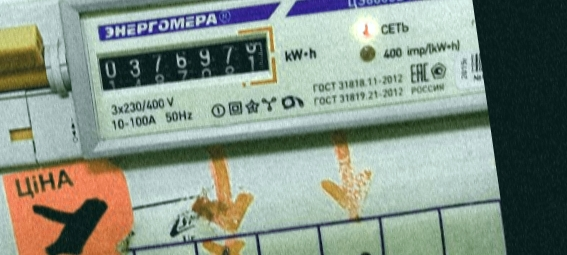0: (102, 59, 118, 81)
1: (245, 55, 258, 74)
3: (126, 58, 142, 80)
6: (173, 48, 188, 71)
7: (149, 53, 165, 75), (220, 44, 235, 67)
9: (197, 47, 211, 70)
screen: (87, 21, 284, 111)
